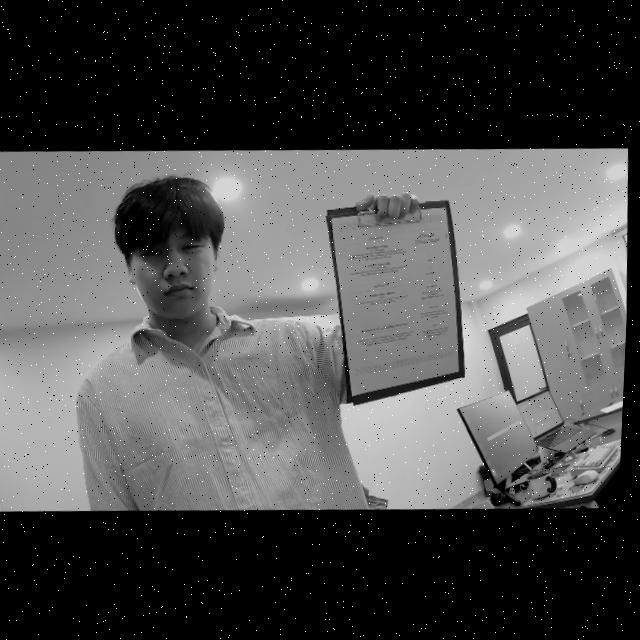document: (331, 207, 458, 396)
face: (127, 202, 214, 328)
